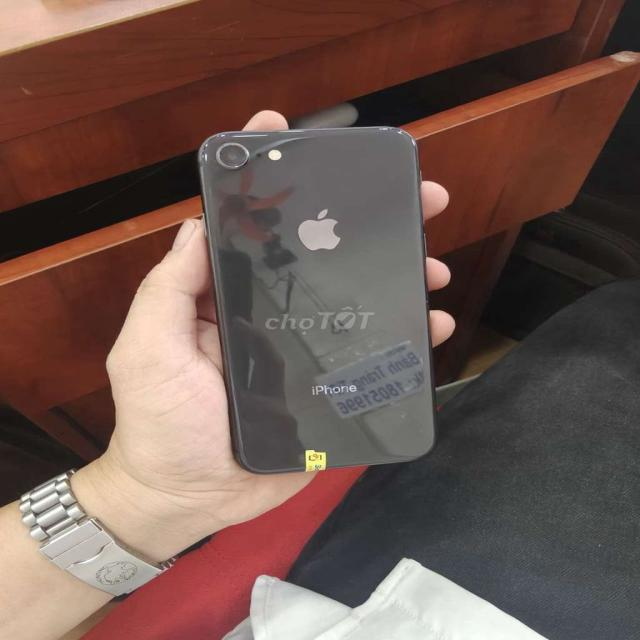scratch: (203, 132, 254, 170)
